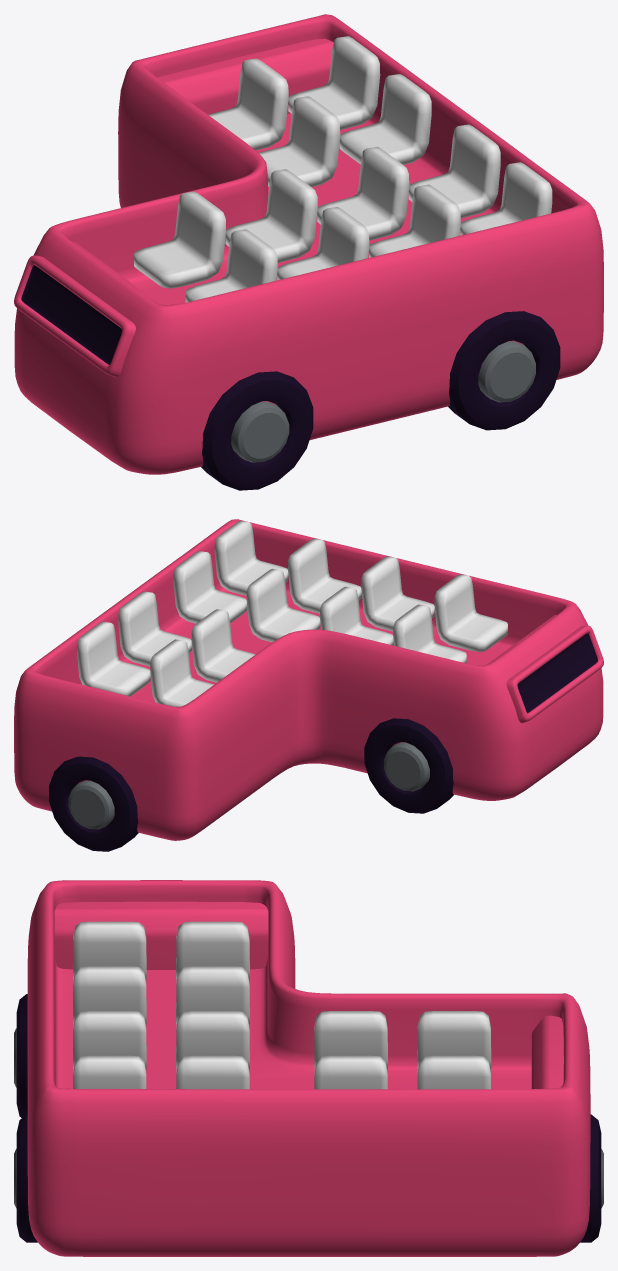
The model's file is car_L_L_1.fbx.
3 renders of one model, top to bottom at view 1: azimuth 30°, elevation 25°; view 2: azimuth 150°, elevation 25°; view 3: azimuth 270°, elevation 25°, orthographic. The views are drawn at different scales.
Parts seen in each view (by area): view 1: Cube.047, Cube.046, Cube.051, Cylinder.009, Cylinder.008, Cube.049; view 2: Cube.047, Cube.046, Cube.051, Cylinder.008, Cylinder.009, Cube.049; view 3: Cube.047, Cube.046, Cube.051, Cylinder.009, Cylinder.008.
Boxes of the visible parts, x1,y1,x2,y2 form: Cube.047: (14,14,603,474); Cube.046: (134,124,552,302); Cube.051: (208,36,431,186); Cylinder.009: (448,311,560,430); Cylinder.008: (201,371,313,490); Cube.049: (21,265,121,364); Cube.047: (14,519,603,840); Cube.046: (173,520,507,663); Cube.051: (77,591,255,706); Cylinder.008: (364,718,453,813); Cylinder.009: (49,756,138,851); Cube.049: (517,633,597,712); Cube.047: (27,880,590,1256); Cube.046: (73,921,249,1089); Cube.051: (314,1011,491,1089); Cylinder.009: (14,1114,603,1242); Cylinder.008: (14,994,27,1117).
Bounding box in the file's own units: 422 × 173 × 440.
